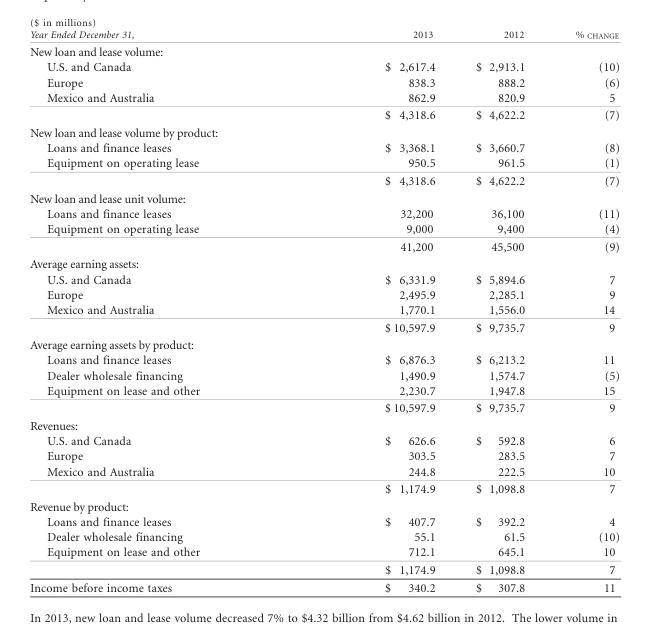table: (29, 29, 618, 593)
table column: (29, 29, 291, 593), (291, 29, 454, 593), (454, 29, 549, 593), (549, 29, 618, 593)
table column header: (29, 29, 618, 42)
table projected row header: (29, 42, 618, 59), (29, 123, 618, 140), (29, 335, 618, 352), (29, 416, 618, 433), (29, 497, 618, 514), (29, 189, 618, 205), (29, 255, 618, 271)
table row: (29, 171, 618, 189), (29, 237, 618, 255), (29, 479, 618, 497), (29, 560, 618, 578), (29, 42, 618, 59), (29, 89, 618, 106), (29, 106, 618, 123), (29, 123, 618, 140), (29, 301, 618, 318), (29, 318, 618, 335), (29, 335, 618, 352), (29, 382, 618, 399), (29, 399, 618, 416), (29, 416, 618, 433), (29, 497, 618, 514), (29, 155, 618, 171), (29, 189, 618, 205), (29, 205, 618, 221), (29, 221, 618, 237), (29, 255, 618, 271), (29, 463, 618, 479), (29, 544, 618, 560), (29, 59, 618, 74), (29, 74, 618, 89), (29, 140, 618, 155), (29, 271, 618, 286), (29, 286, 618, 301), (29, 352, 618, 367), (29, 367, 618, 382), (29, 433, 618, 448), (29, 448, 618, 463), (29, 514, 618, 529), (29, 529, 618, 544), (29, 578, 618, 593), (29, 29, 618, 42)
